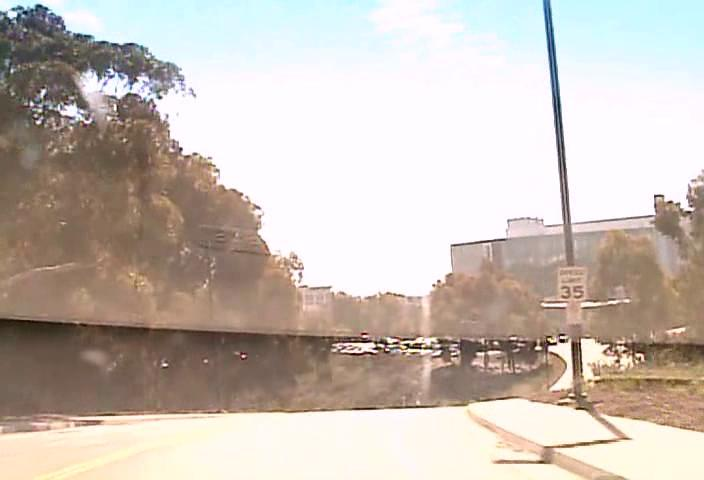speedLimit35: (556, 265, 588, 302)
